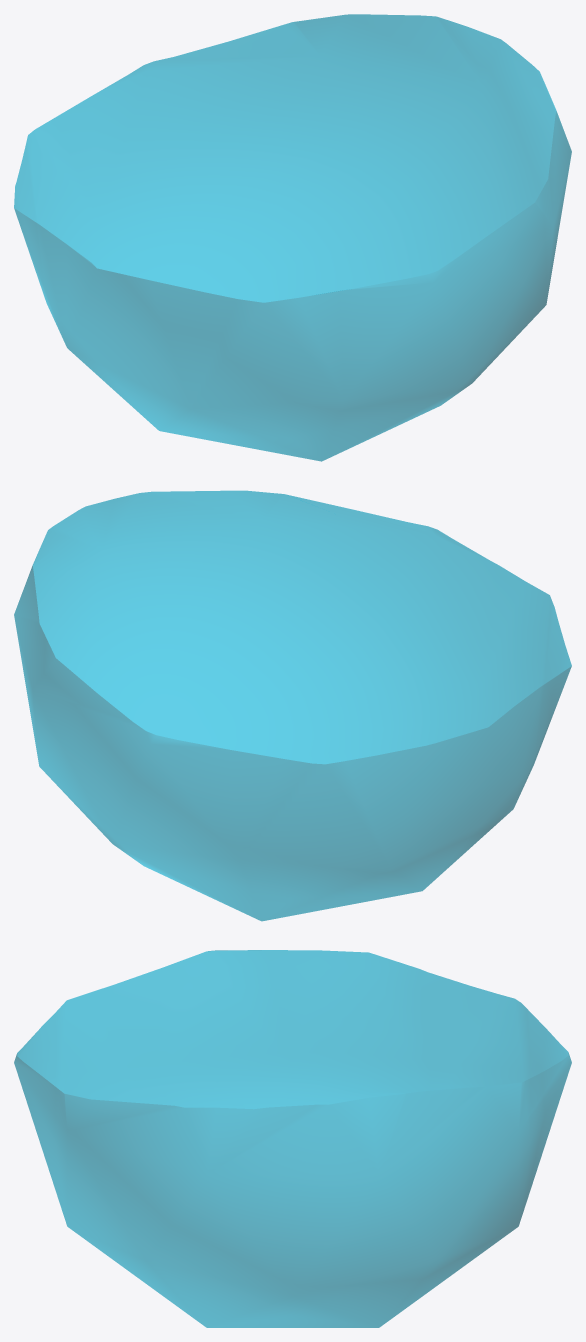
File: Ocean_fororb.fbx
The picture shows the model from 3 angles, top to bottom: view 1: azimuth 30°, elevation 25°; view 2: azimuth 150°, elevation 25°; view 3: azimuth 270°, elevation 25°; orthographic projection. The views are drawn at different scales.
Visible parts, largest first — view 1: Plane; view 2: Plane; view 3: Plane.
Part boxes in pixels (x1,y1,x2,y2): Plane: (14,14,571,461); Plane: (14,490,571,921); Plane: (14,950,571,1327).
Bounding box in the file's own units: 190 × 127 × 200.
